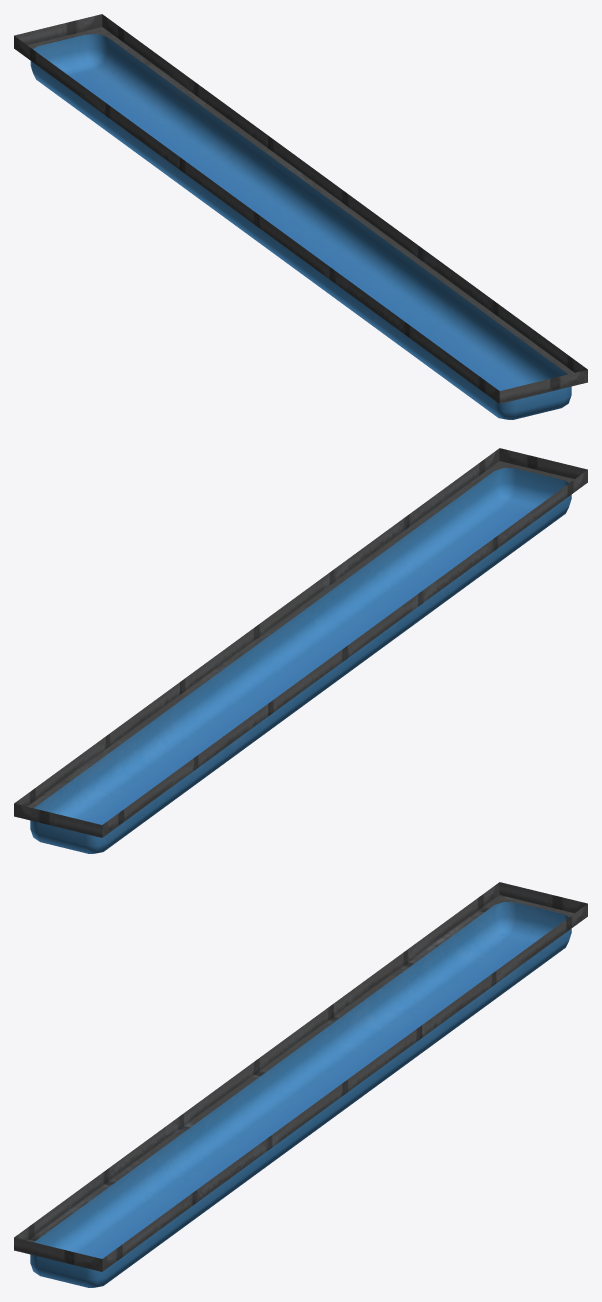
Rendered from CP_Ceiling_Lamp_03.fbx.
The picture shows the model from 3 angles, top to bottom: view 1: azimuth 30°, elevation 25°; view 2: azimuth 150°, elevation 25°; view 3: azimuth 330°, elevation 25°; orthographic projection.
Visible parts, largest first — view 1: CP_Ceiling_Lamp_03; view 2: CP_Ceiling_Lamp_03; view 3: CP_Ceiling_Lamp_03.
Boxes of the visible parts, <box> form: CP_Ceiling_Lamp_03: <box>14,14,587,419</box>; CP_Ceiling_Lamp_03: <box>14,448,587,853</box>; CP_Ceiling_Lamp_03: <box>14,882,587,1287</box>.
Size of the model in its own units: 15.64 by 7.16 by 149.
